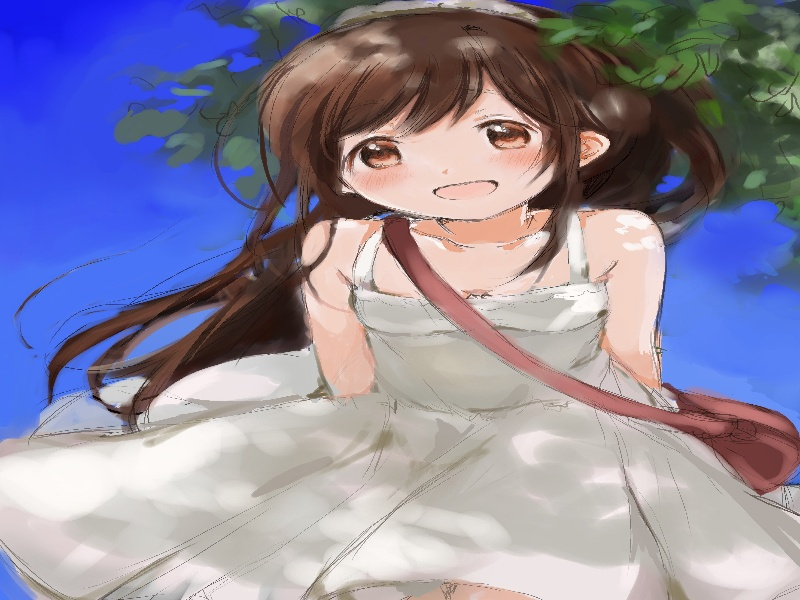person: (304, 66, 596, 228)
